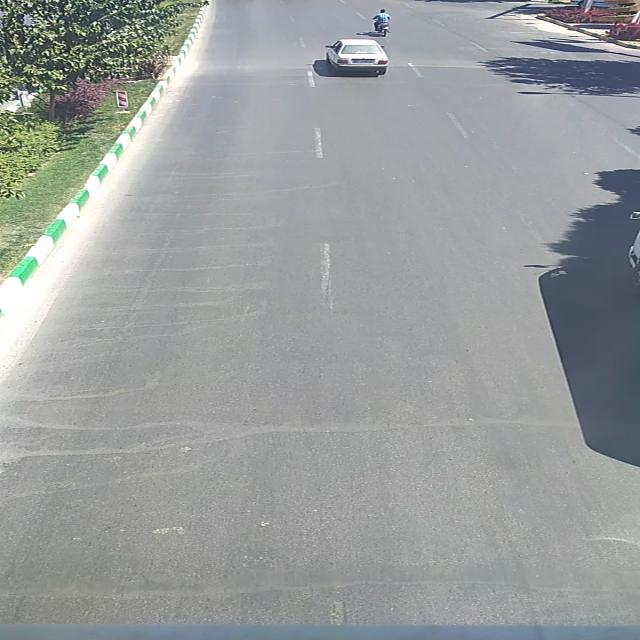car: (323, 39, 393, 72)
motor: (369, 8, 394, 36)
